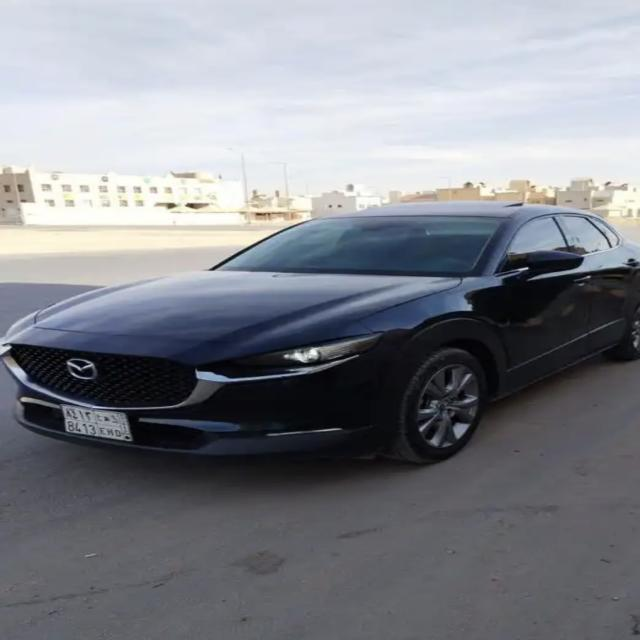license_plate: (62, 403, 134, 443)
